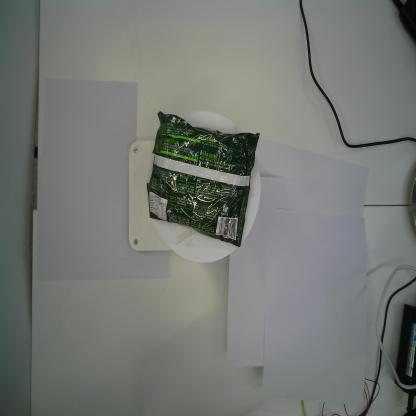Instant Noodles: (146, 104, 262, 250)
